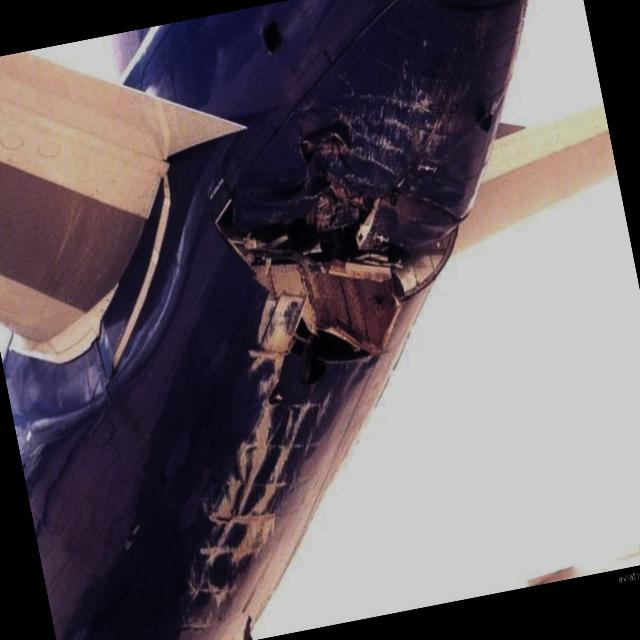crack: (197, 112, 435, 404)
